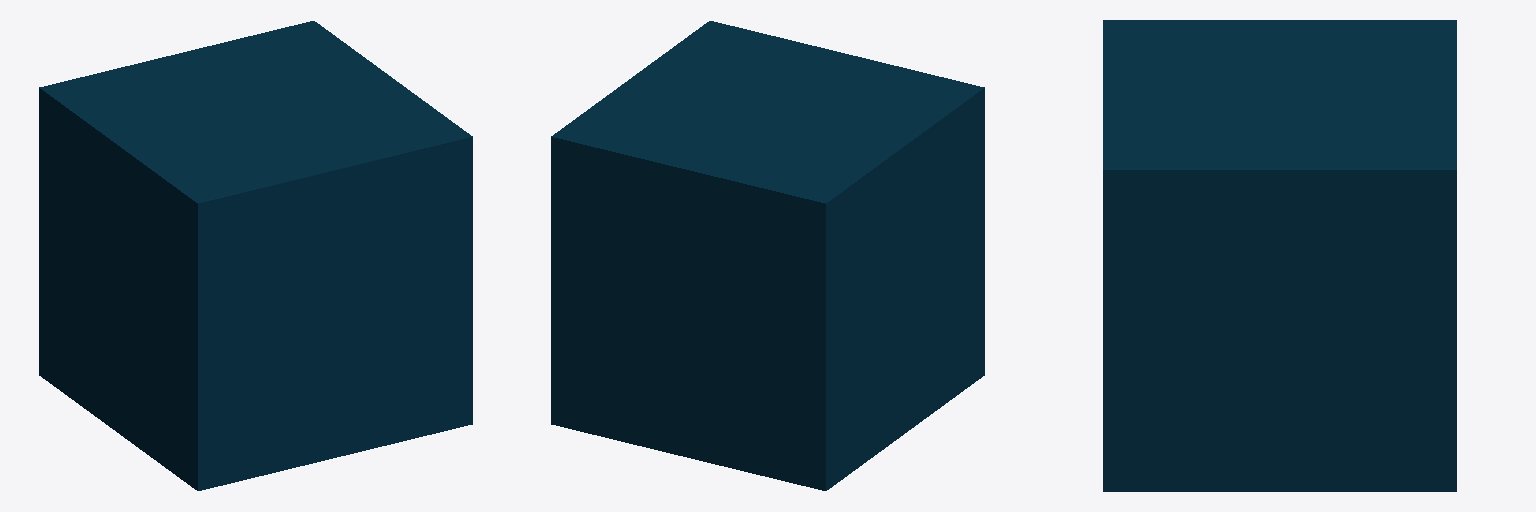
The robot description file, URDF, robot "bolt_2":
<?xml version="1.0" ?>
<robot name="bolt_2">
  <link name="bolt_2_base_link">
    <contact>
      <lateral_friction value="1.0"/>
      <rolling_friction value="0.001"/>
    </contact>
    <inertial>
      <origin rpy="0 0 0" xyz="0 0 0"/>
       <mass value=".02"/>
       <inertia ixx="1" ixy="0" ixz="0" iyy="1" iyz="0" izz="1"/>
    </inertial>
    <visual>
      <origin rpy="0 0 0" xyz="0 0 0"/>
      <geometry>
        <box size=".025 .025 0.025"/>
      </geometry>
       <material name="yellow">
        <color rgba=".062 .243 0.329 1"/>
      </material>
    </visual>
    <collision>
      <origin rpy="0 0 0" xyz="0 0 0"/>
      <geometry>
        <box size=".025 .025 0.025"/>
      </geometry>
    </collision>
  </link>
</robot>

--- What the picture shows (computed from the rendered views, not written in the file) ---
3 views of the same robot in one strip: view 1: azimuth 30°, elevation 25°; view 2: azimuth 150°, elevation 25°; view 3: azimuth 270°, elevation 25° (orthographic).
Robot: bolt_2 — 1 links, 0 joints (none); root link bolt_2_base_link; default pose: all joints at 0.
Visible links, largest first — view 1: bolt_2_base_link; view 2: bolt_2_base_link; view 3: bolt_2_base_link.
Link boxes in pixels (x1=…): bolt_2_base_link: x1=39, y1=21, x2=472, y2=490; bolt_2_base_link: x1=551, y1=21, x2=984, y2=490; bolt_2_base_link: x1=1103, y1=20, x2=1456, y2=491.
Bounding box of the posed robot: 0.025 × 0.025 × 0.025 m (x, y, z).
Geometry: primitives only (box / cylinder / sphere), no mesh files.